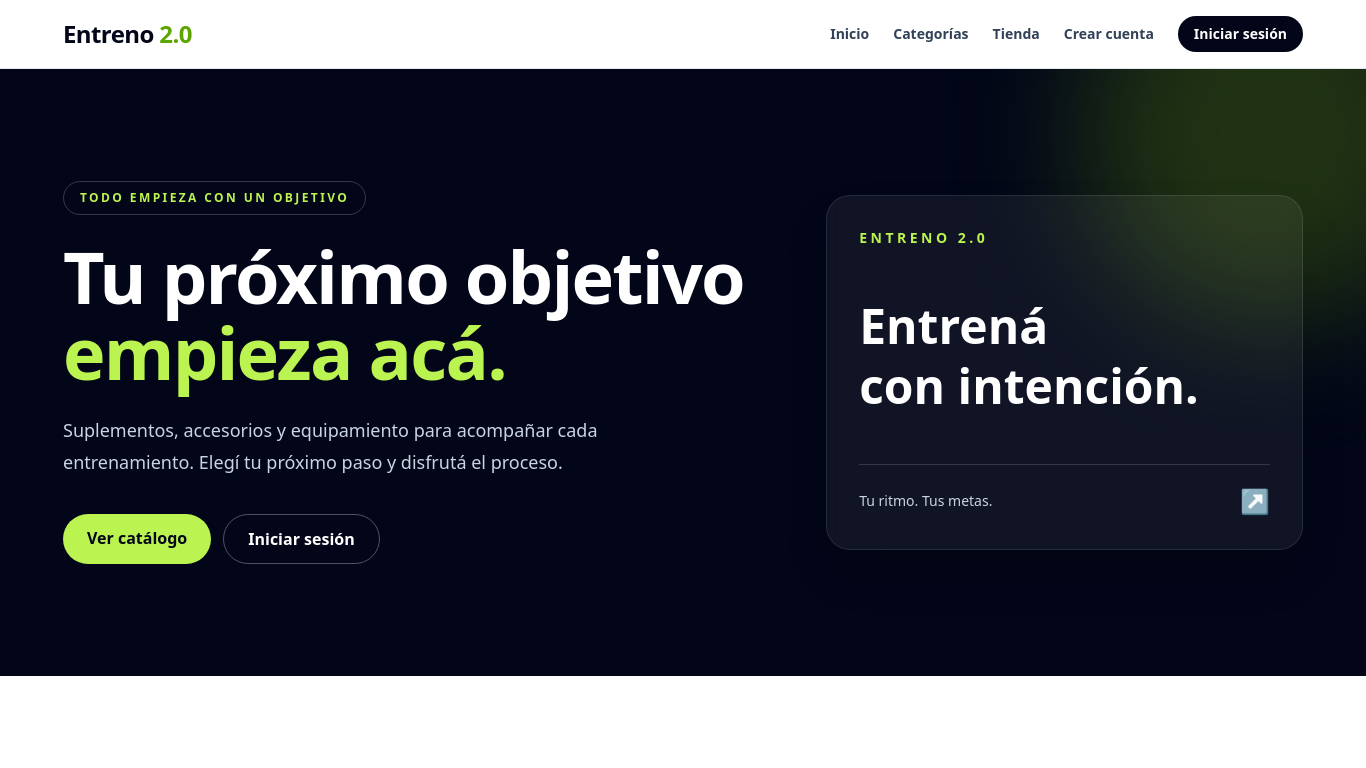
app shell › abre el catálogo desde la navegación principal
The image size is (1366, 768).
Click the link "Tienda": (1016, 34) [992,24,1040,44]
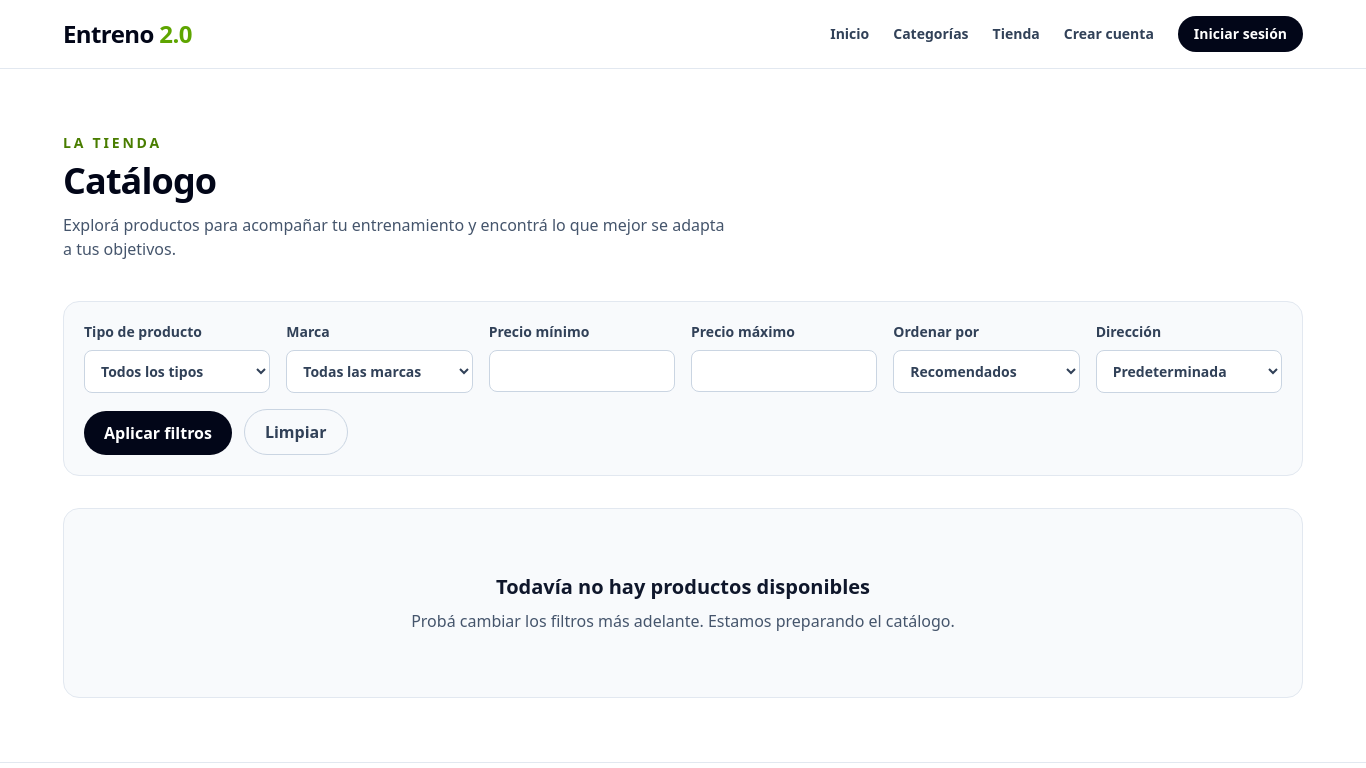
Check: the heading "Catálogo" is shown, box [63,156,216,205]
Check: the heading "Todavía no hay productos disponibles" is shown, box [496,573,870,600]
